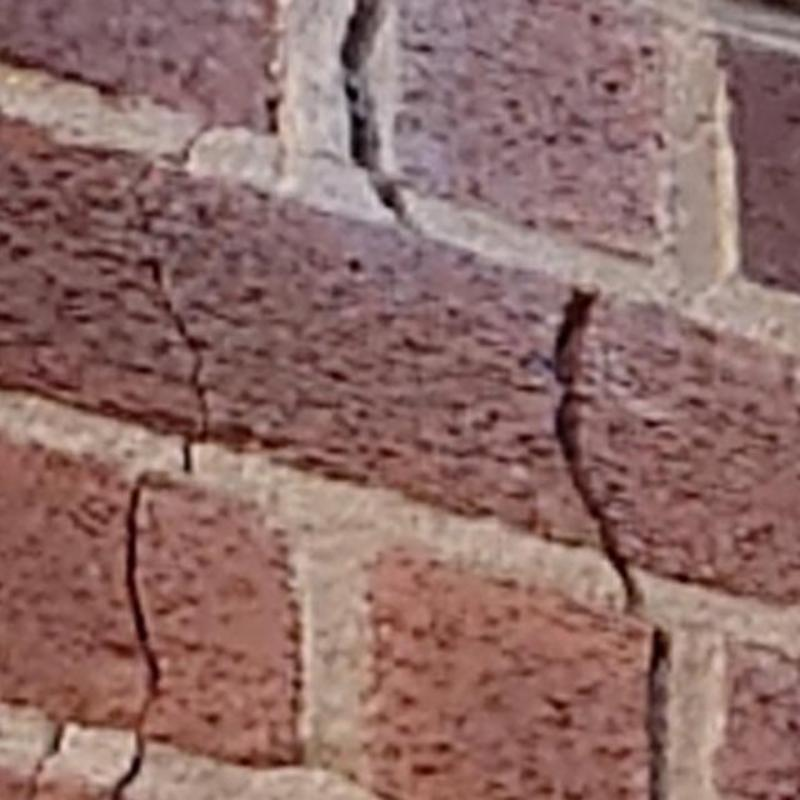pothole: (555, 289, 642, 615), (112, 470, 169, 799), (145, 259, 209, 474), (341, 0, 398, 216), (648, 627, 672, 799), (25, 725, 62, 799), (158, 121, 216, 165)
